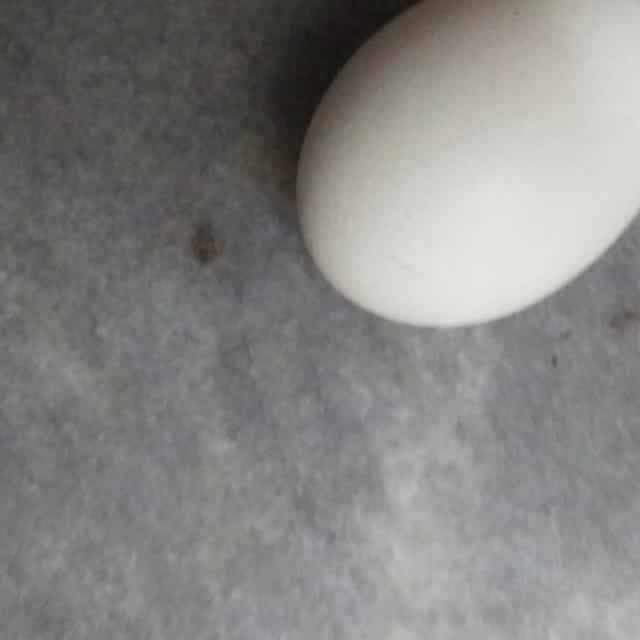egg: (291, 0, 640, 331)
